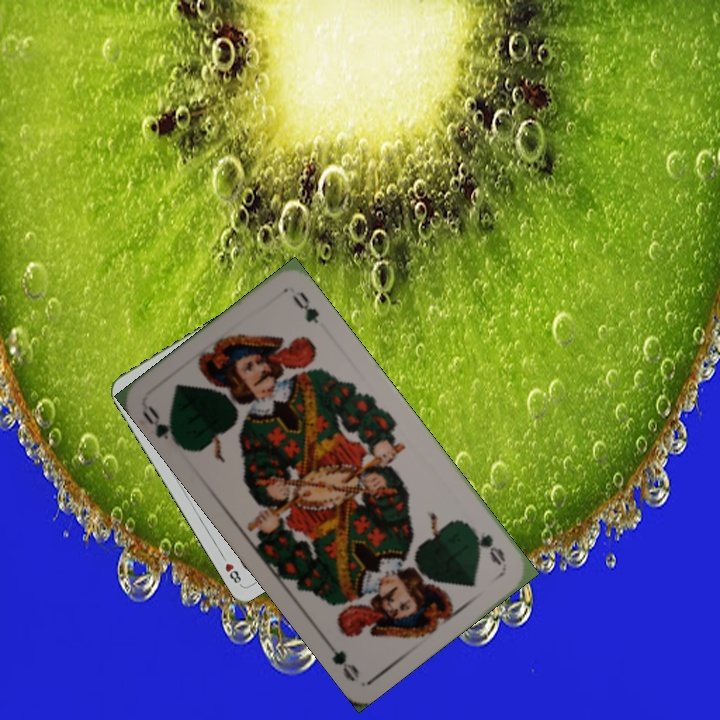GO: (137, 401, 185, 450), (464, 521, 509, 568)
